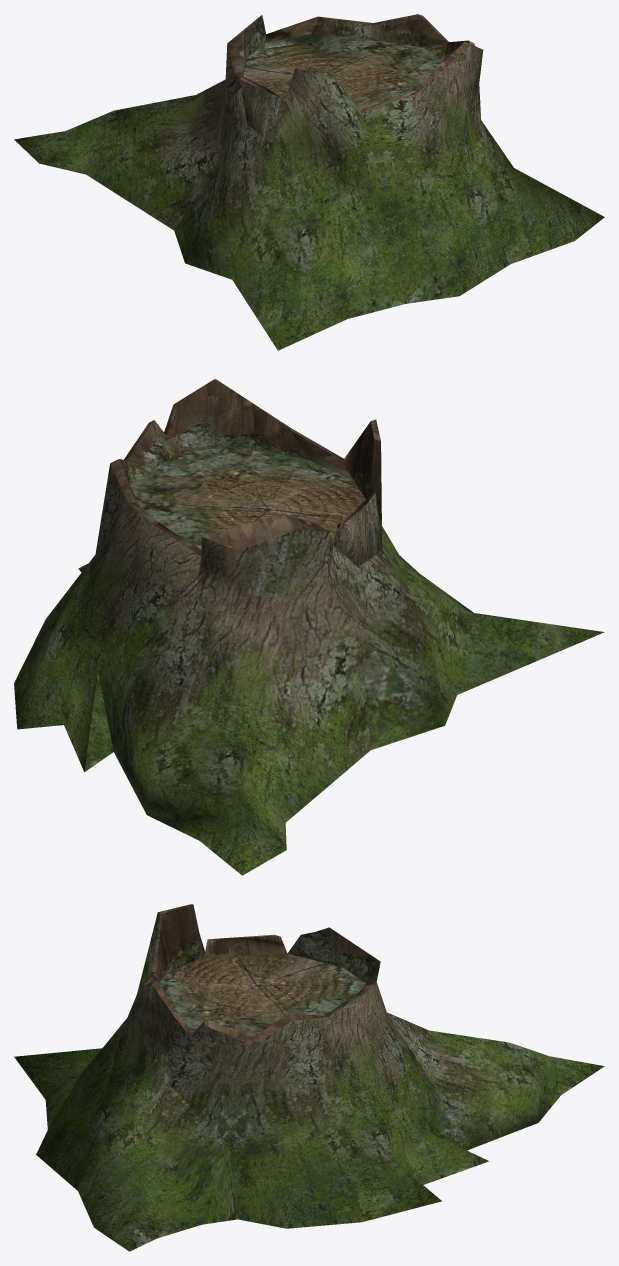
File: Vegetation_Shugen0101_lod1.glb
3 renders of one model, top to bottom at view 1: azimuth 30°, elevation 25°; view 2: azimuth 150°, elevation 25°; view 3: azimuth 270°, elevation 25°, orthographic. The views are drawn at different scales.
Parts seen in each view (by area): view 1: common_shugen01_01_lod01; view 2: common_shugen01_01_lod01; view 3: common_shugen01_01_lod01.
Boxes of the visible parts, left/top/right/bottom form: common_shugen01_01_lod01: left=14, top=14, right=604, bottom=350; common_shugen01_01_lod01: left=14, top=379, right=604, bottom=875; common_shugen01_01_lod01: left=14, top=904, right=604, bottom=1251.
Size of the model in its own units: 7.1 by 3.51 by 9.09.
1 material, 1 textured.
